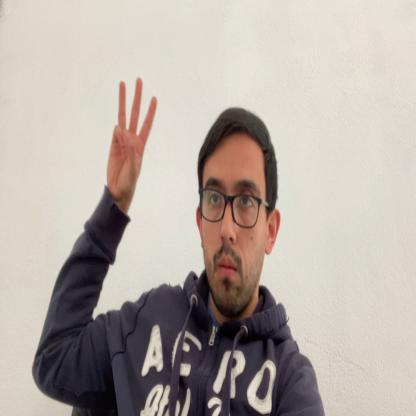W: (107, 74, 158, 202)
